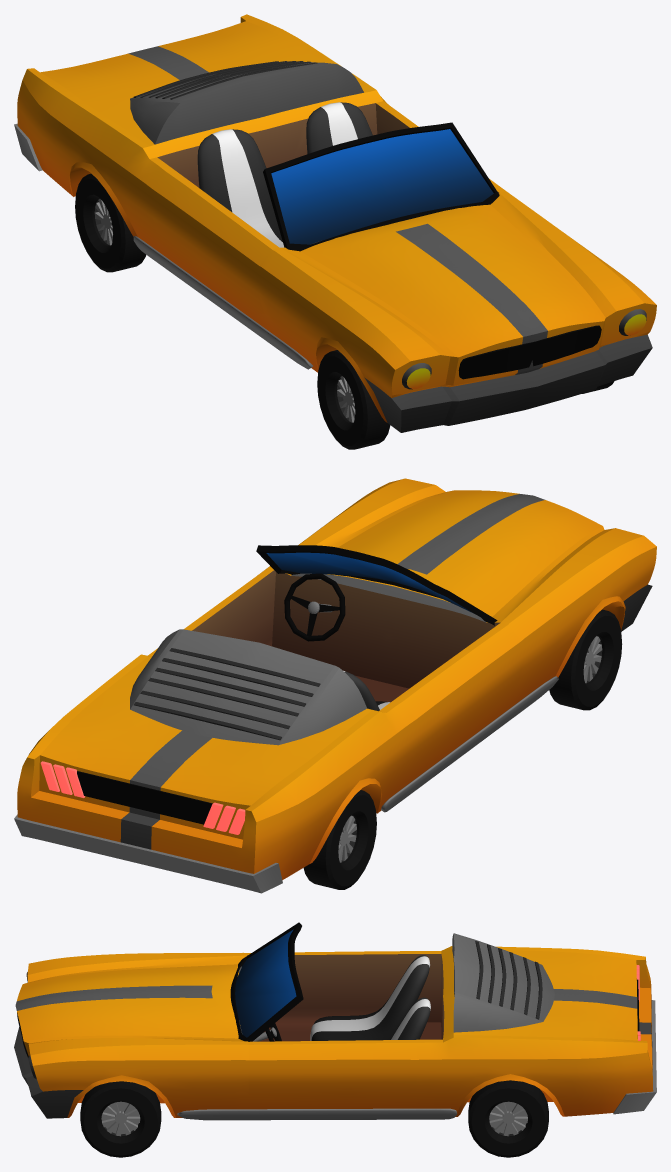
File: araba3.fbx
The picture shows the model from 3 angles, top to bottom: view 1: azimuth 30°, elevation 25°; view 2: azimuth 150°, elevation 25°; view 3: azimuth 270°, elevation 25°; orthographic projection. The views are drawn at different scales.
Visible parts, largest first — view 1: Circle.004, ön lastik.006, ön lastik.007; view 2: Circle.004, ön lastik.006, ön lastik.007; view 3: Circle.004, ön lastik.007, ön lastik.006.
Boxes of the visible parts, box(x1,y1,x2,y2) form: Circle.004: box(14, 14, 656, 432); ön lastik.006: box(317, 350, 614, 449); ön lastik.007: box(75, 173, 146, 272); Circle.004: box(14, 478, 656, 893); ön lastik.006: box(549, 609, 622, 710); ön lastik.007: box(303, 790, 376, 889); Circle.004: box(14, 922, 656, 1120); ön lastik.007: box(468, 1080, 548, 1157); ön lastik.006: box(80, 1081, 161, 1157).
Bounding box in the file's own units: 2.29 × 1.6 × 5.85.
6 materials, 1 textured.
